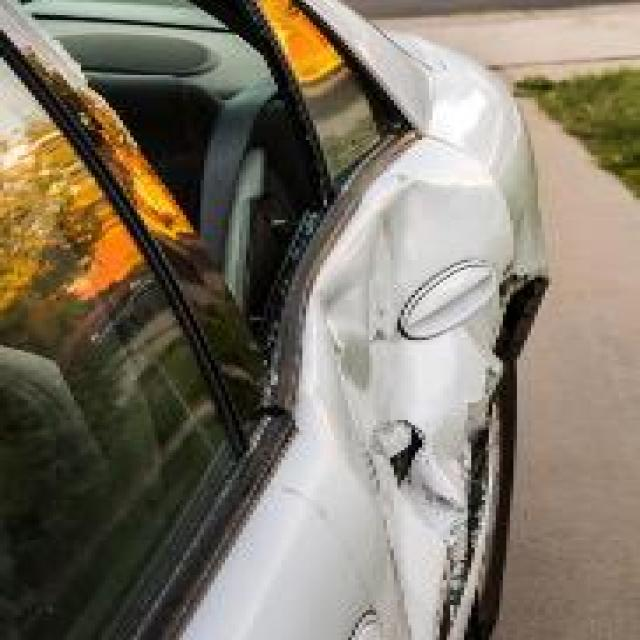Door: (271, 135, 492, 588)
